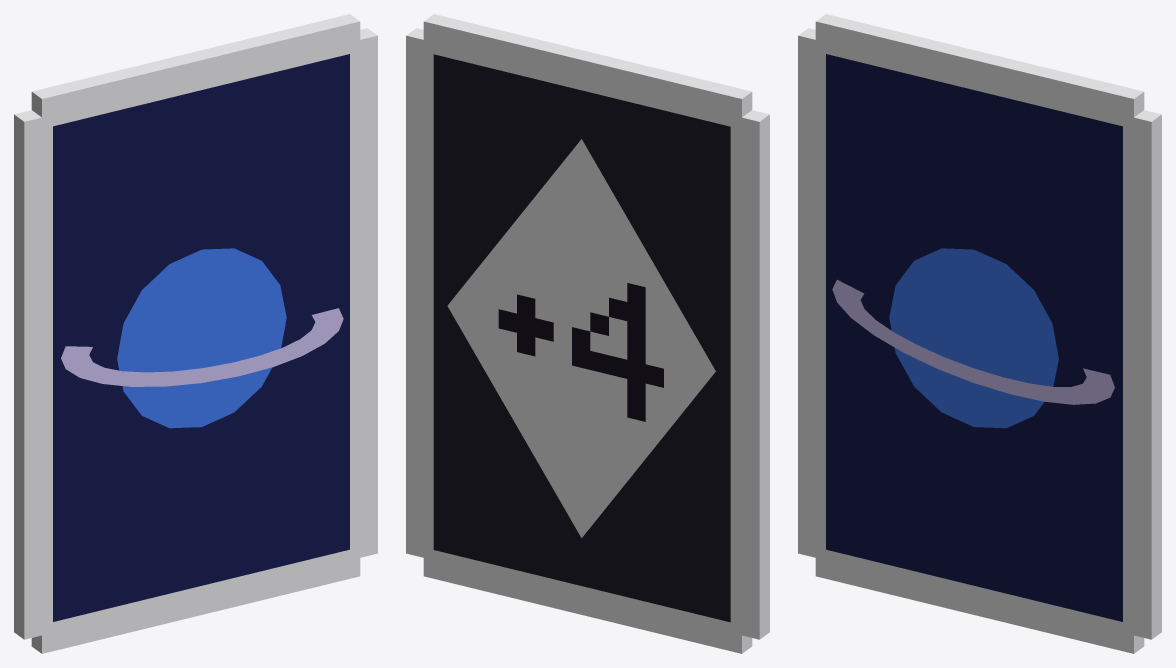
File: recuerdo_07.obj
3 renders of one model, left to right at view 1: azimuth 30°, elevation 25°; view 2: azimuth 150°, elevation 25°; view 3: azimuth 330°, elevation 25°, orthographic.
Parts seen in each view (by area): view 1: reverso, marco, reverso_planeta, reverso_anillo; view 2: color_negro, marco, rombo, s_mas4; view 3: reverso, marco, reverso_planeta, reverso_anillo.
Part boxes in pixels (x1,y1,x2,y2): reverso: (53,54,349,621); marco: (14,14,377,653); reverso_planeta: (117,248,286,428); reverso_anillo: (61,308,343,386); color_negro: (433,54,730,622); marco: (406,14,769,653); rombo: (447,139,715,537); s_mas4: (498,283,663,421); reverso: (826,54,1122,621); marco: (798,14,1161,653); reverso_planeta: (889,248,1058,428); reverso_anillo: (832,279,1114,404).
Size of the model in its own units: 0.5 by 0.75 by 0.032.
